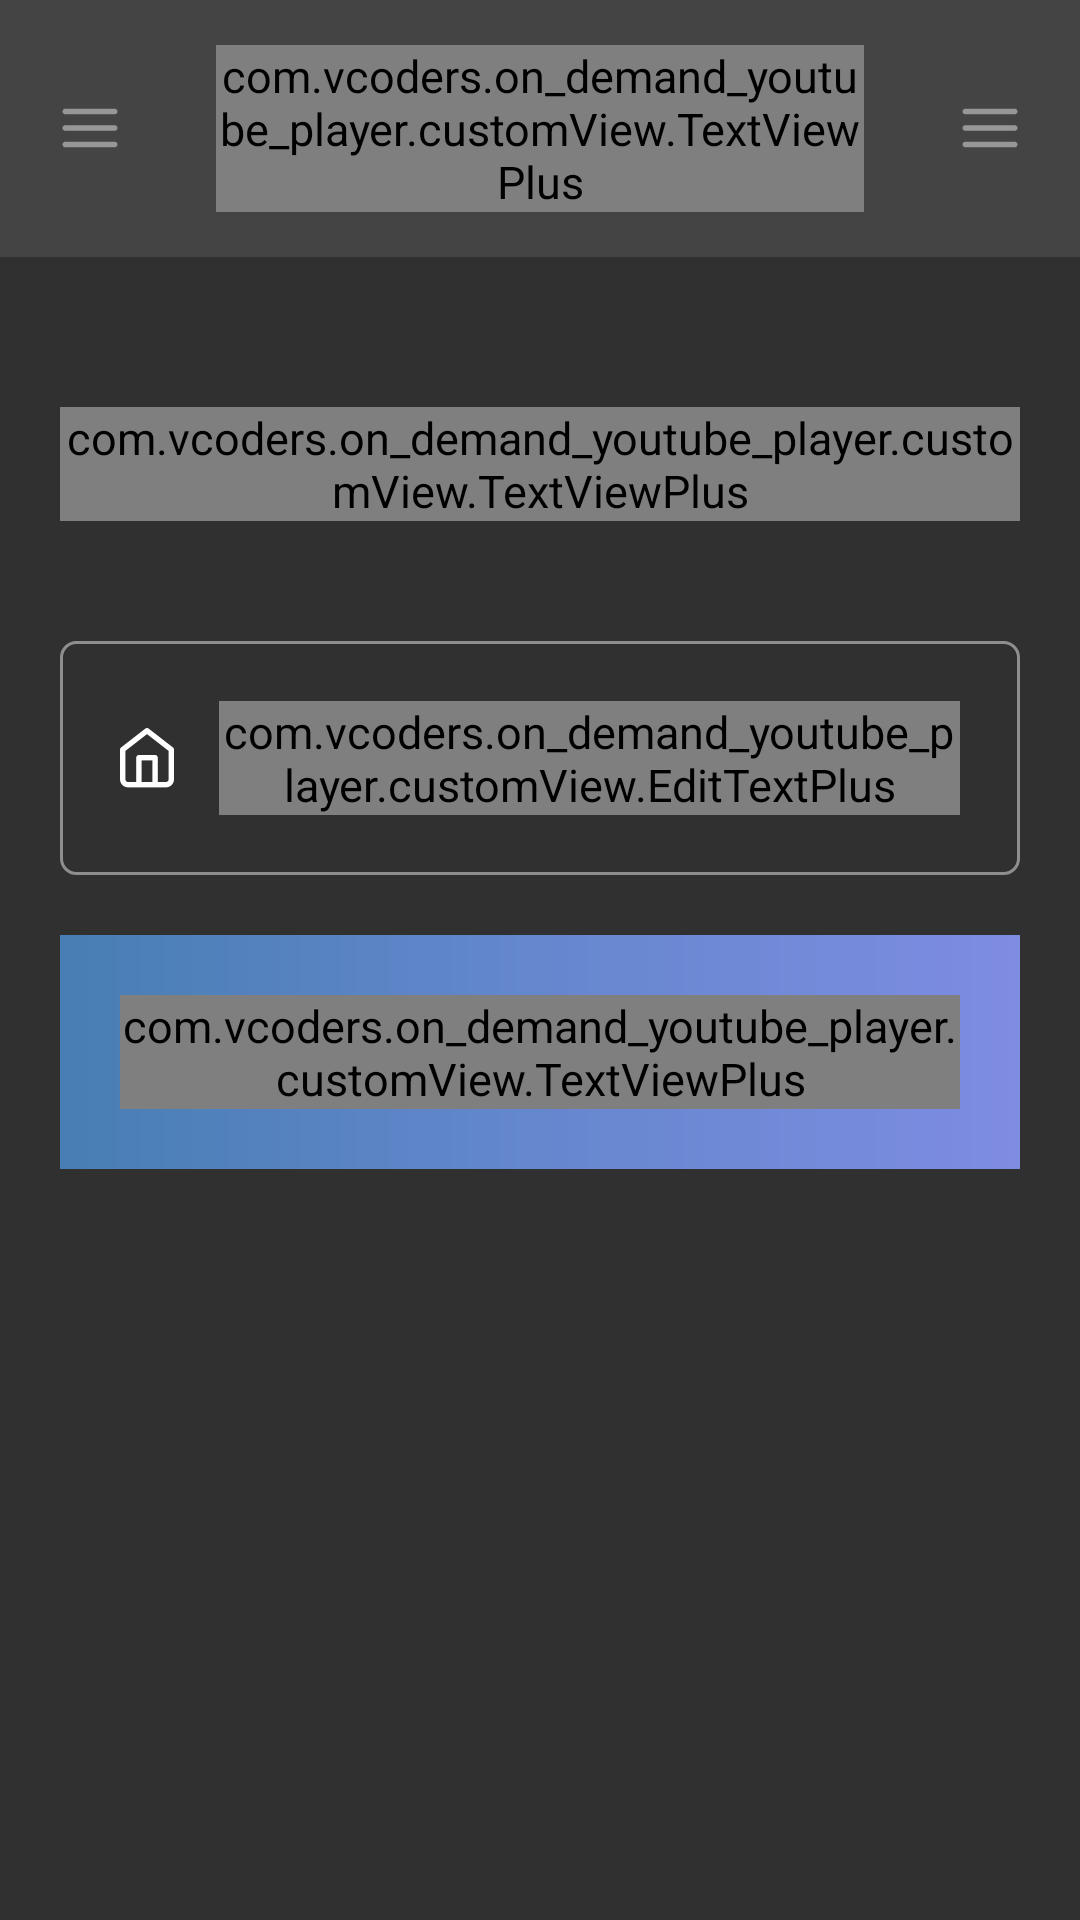

Locate icon controls on the screen. Image size 1080px x 1920px, boxes as [left=x1, top=y1, right=x2, bottom=y2].
home: [left=120, top=728, right=174, bottom=788]
menu: [left=62, top=109, right=118, bottom=147], [left=962, top=109, right=1018, bottom=147]
